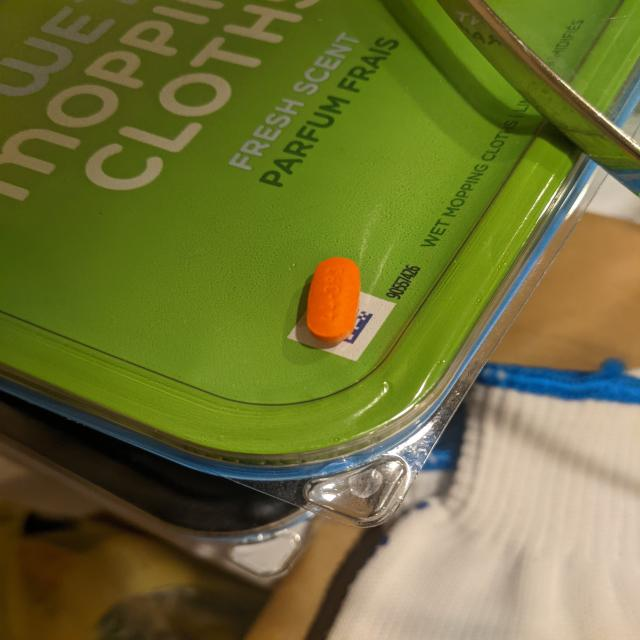non-organic waste: (304, 256, 362, 344)
